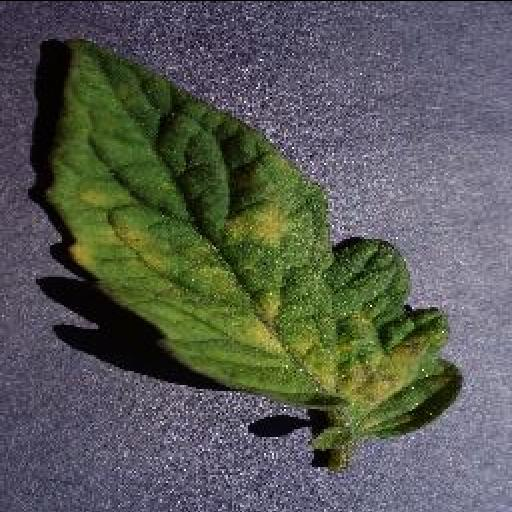disease_tomato: (42, 34, 462, 436)
